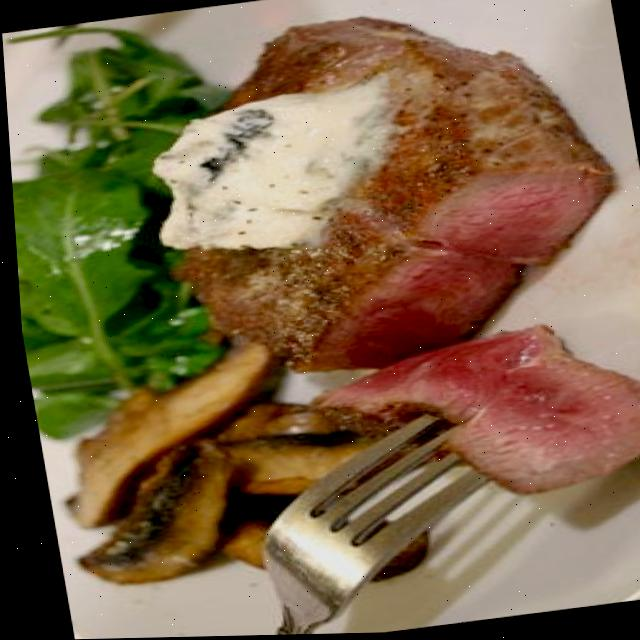牛肉菜式: (117, 0, 640, 540)
